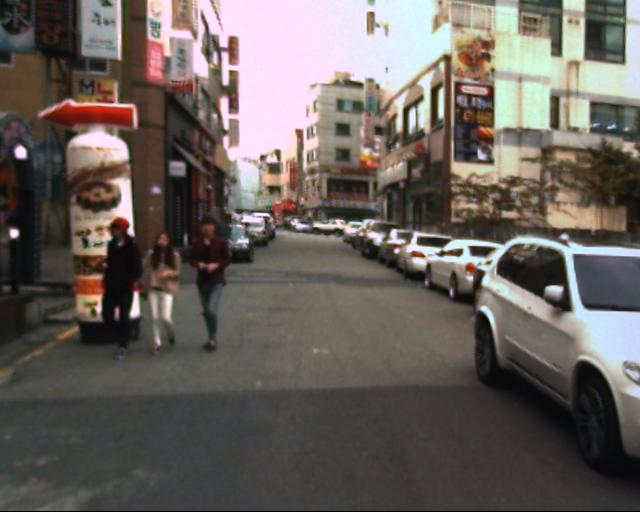person: (179, 203, 239, 367), (96, 205, 145, 368), (139, 211, 186, 368)
